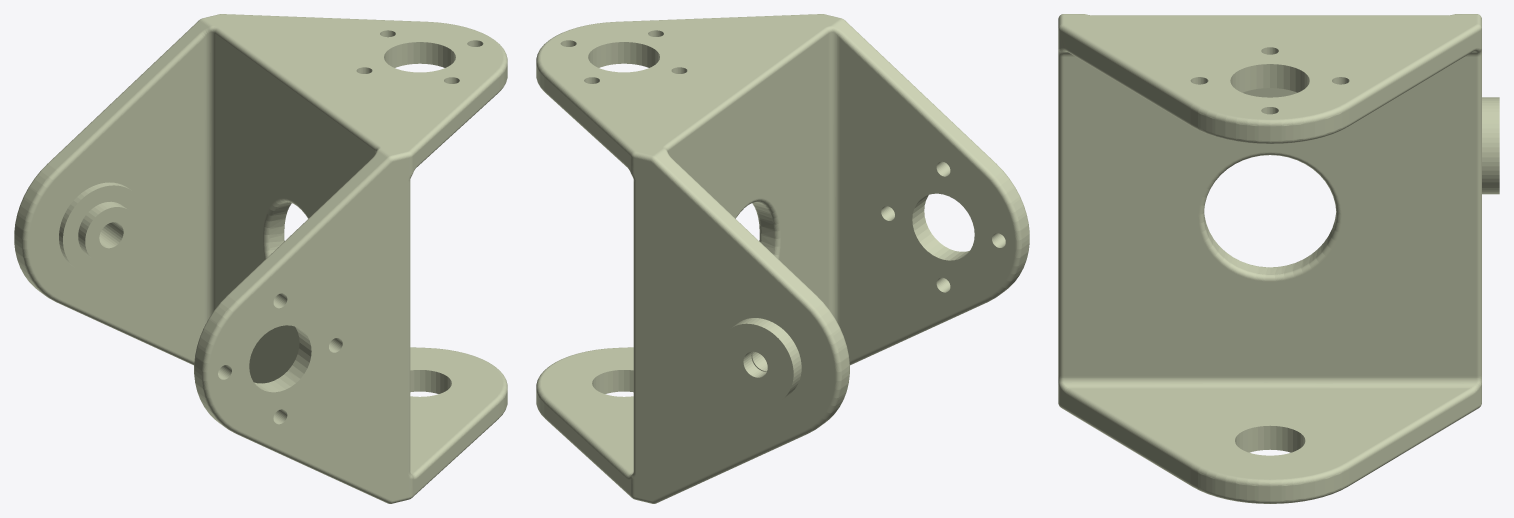
Rendered from coxa_left.dae.
3 views of the same model, side by side, from view 1: azimuth 30°, elevation 25°; view 2: azimuth 150°, elevation 25°; view 3: azimuth 270°, elevation 25° (orthographic). The views are drawn at different scales.
Parts seen in each view (by area): view 1: STL object-0; view 2: STL object-0; view 3: STL object-0.
Part boxes in pixels (left/top/right/bottom): STL object-0: left=14, top=14, right=507, bottom=503; STL object-0: left=536, top=14, right=1029, bottom=503; STL object-0: left=1058, top=14, right=1499, bottom=503.
Bounding box in the file's own units: 0.056 × 0.048 × 0.05.
